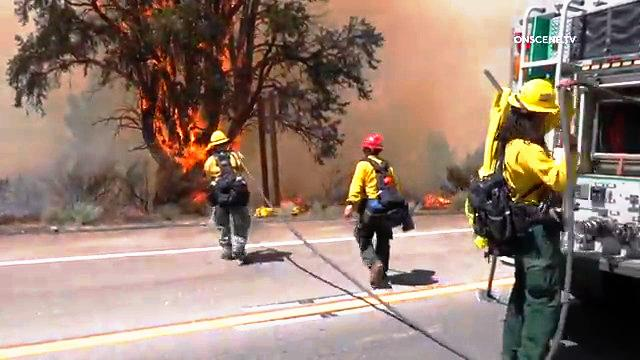fire: (139, 44, 197, 170)
smoke: (393, 2, 485, 159), (3, 122, 80, 178)
